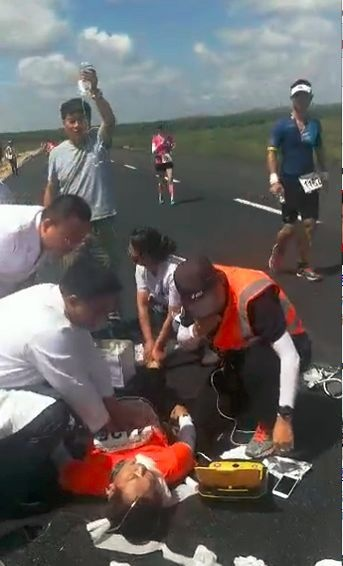falling: (62, 347, 204, 528)
